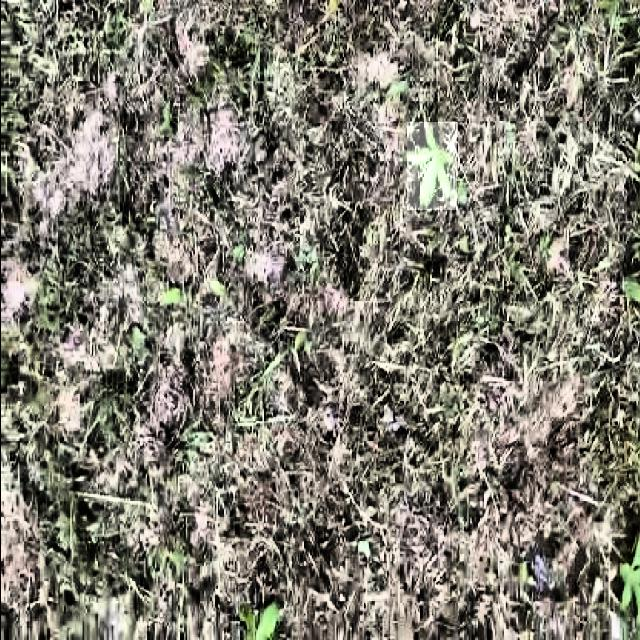Weeds: (406, 122, 456, 210)
